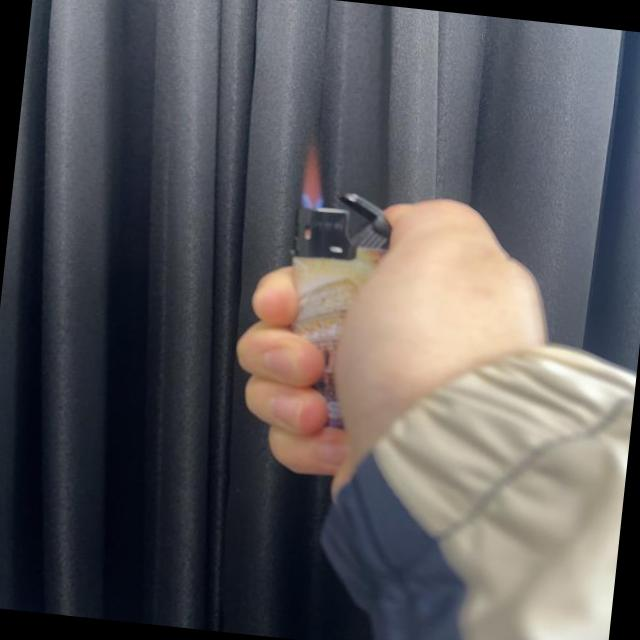Fire: (300, 142, 330, 212)
